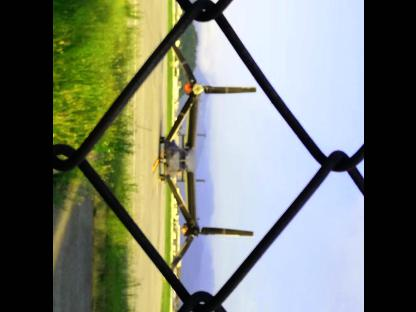Tornado: (158, 44, 256, 272)
